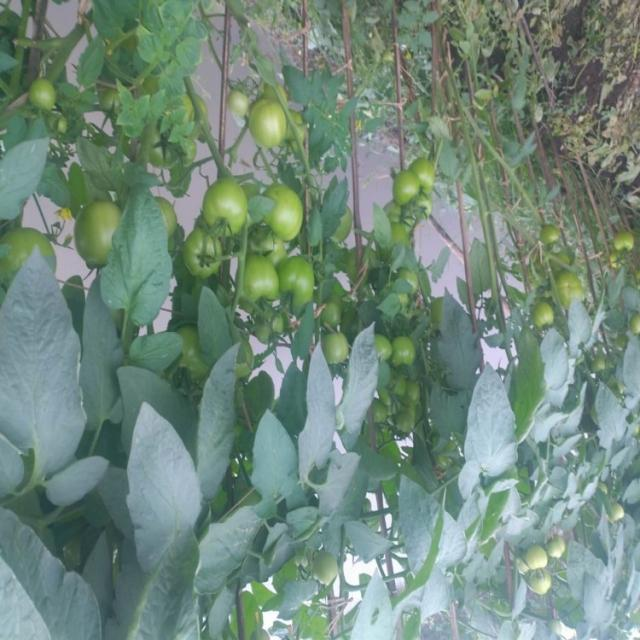tomato: (242, 94, 305, 175), (261, 248, 321, 321), (71, 198, 120, 273), (201, 179, 251, 249), (1, 223, 60, 282), (266, 183, 308, 257), (182, 229, 235, 284), (242, 256, 285, 312), (247, 312, 301, 354), (520, 307, 565, 353), (552, 264, 583, 315), (389, 173, 425, 214), (383, 334, 421, 372), (317, 287, 352, 326), (411, 159, 442, 194), (523, 541, 553, 572), (611, 500, 640, 532), (529, 574, 555, 604), (28, 82, 57, 108), (539, 225, 561, 251), (617, 217, 638, 243), (326, 329, 344, 359), (373, 341, 396, 358), (545, 537, 564, 553)
